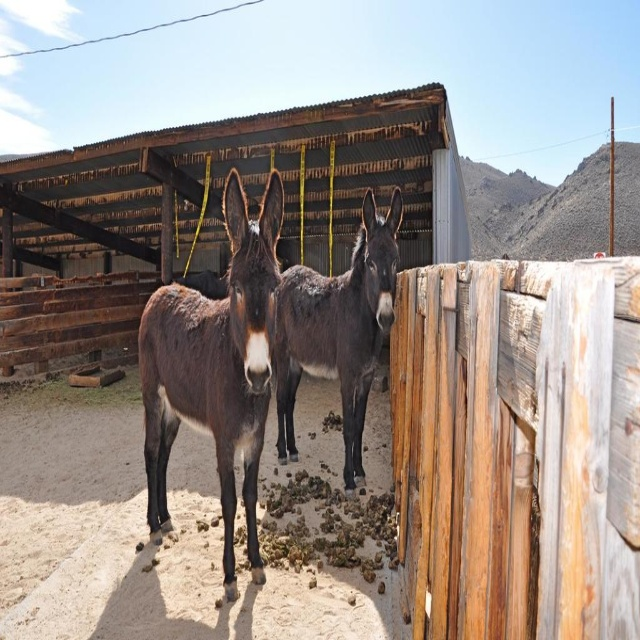Mule: (136, 167, 291, 614), (271, 187, 404, 493)
